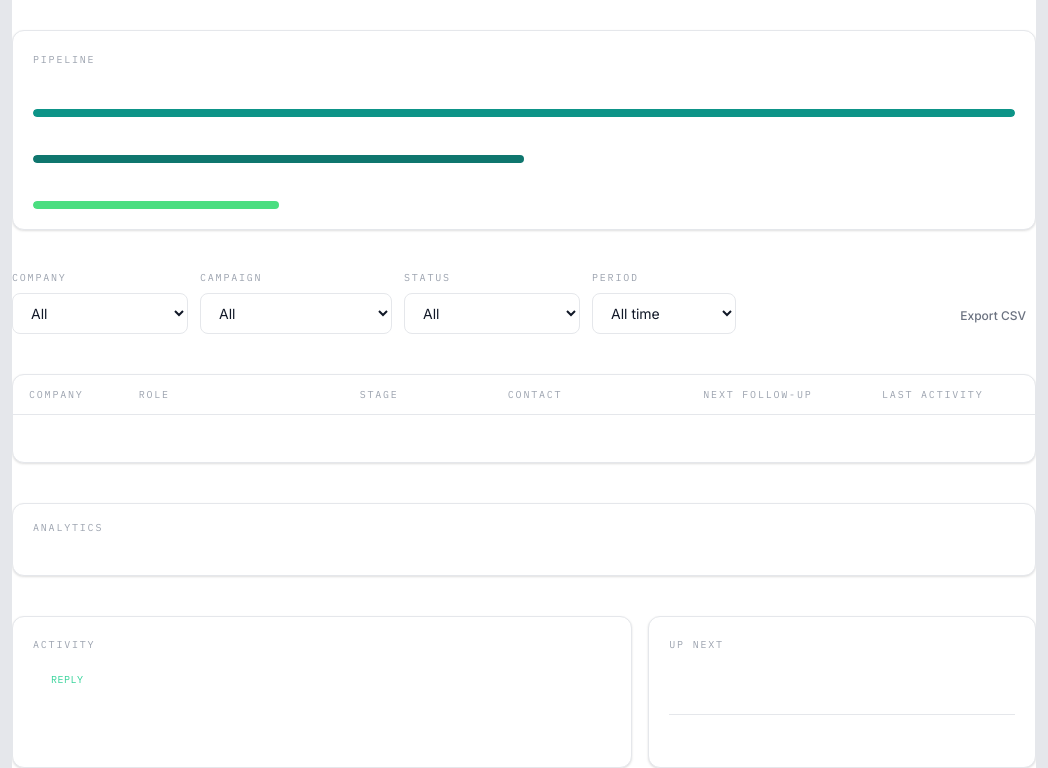
Test case: Pipeline engagement stats › shows open and click rates
The image size is (1048, 768).
(page scrolled)
Click the button "Analytics" at (68, 527), box [13,504,1035,574]
(page scrolled)
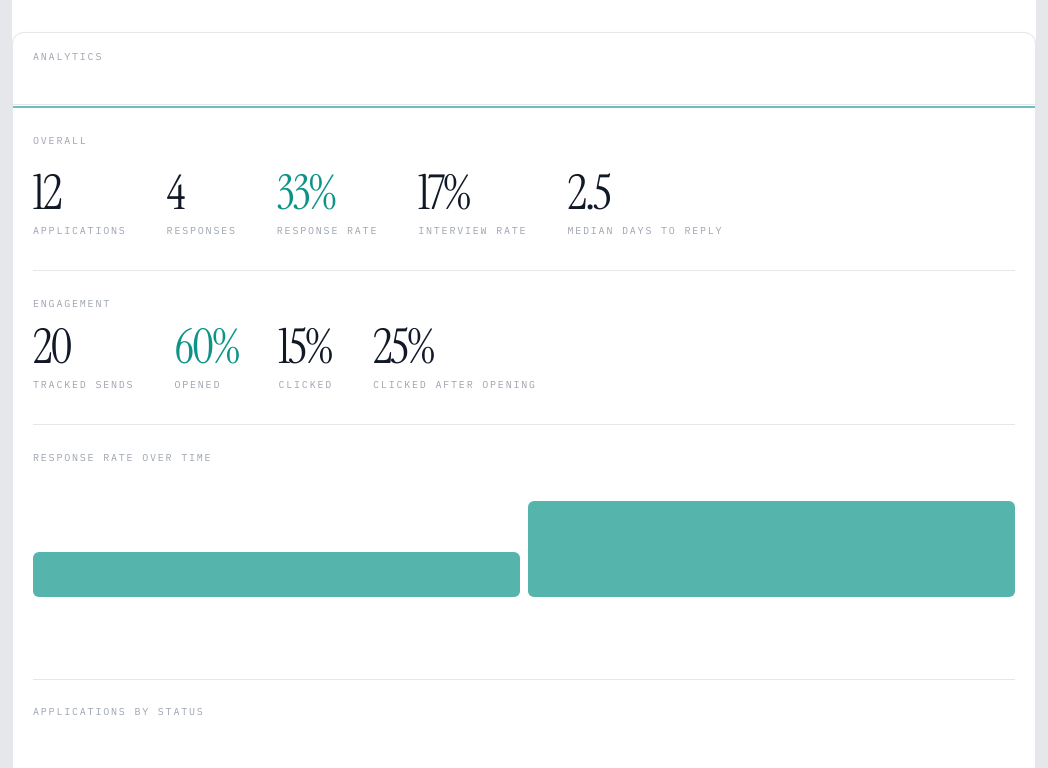
Expected: the text "Engagement" is shown, [33,296,111,310]
Expected: the text "60%" is shown, [174,323,238,371]
Expected: the text "Clicked after opening" is shown, [373,377,537,392]
